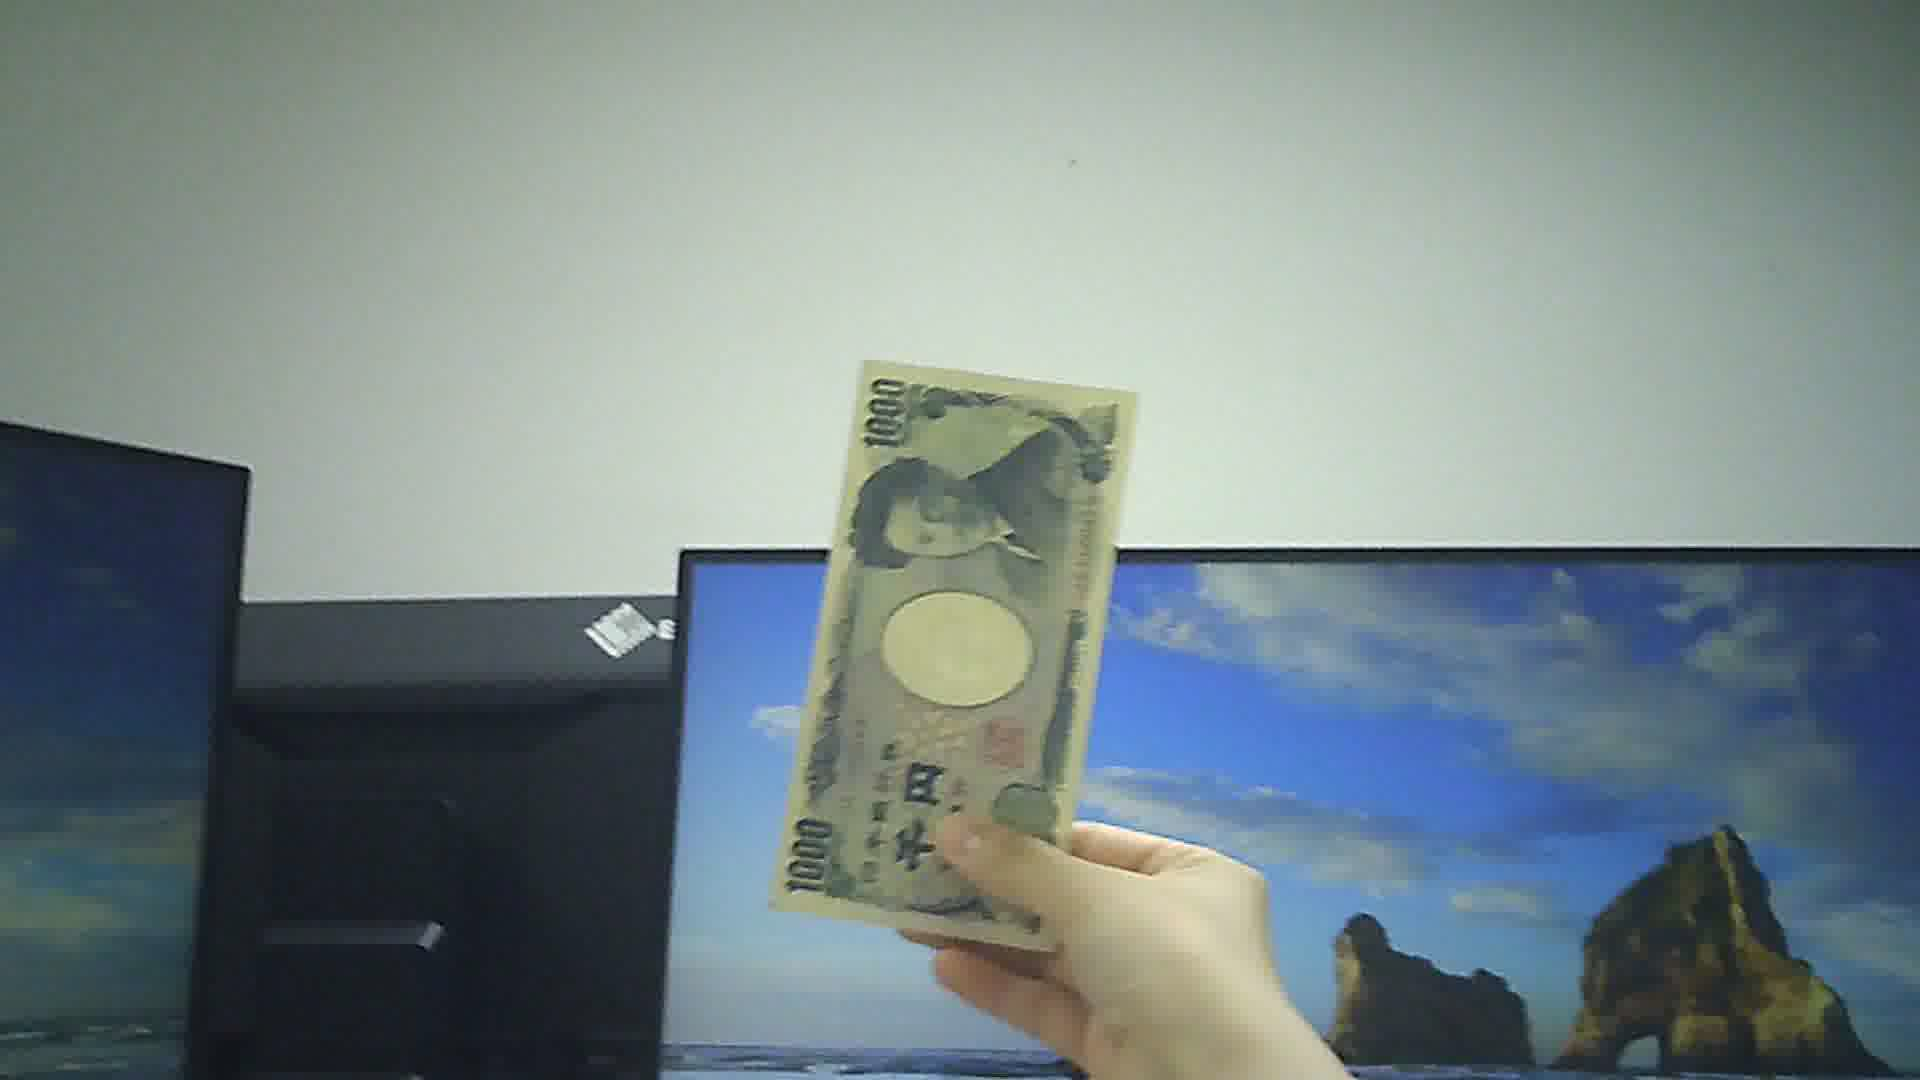1,000 Yen: (771, 352, 1134, 957)
